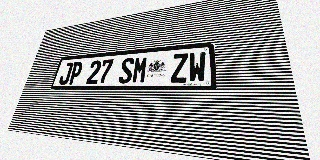2: (86, 60, 102, 84)
7: (97, 59, 114, 84)
J: (58, 62, 74, 85)
M: (131, 56, 148, 83)
P: (68, 61, 84, 84)
S: (118, 57, 135, 84)
W: (188, 52, 206, 82)
Z: (171, 53, 188, 83)
